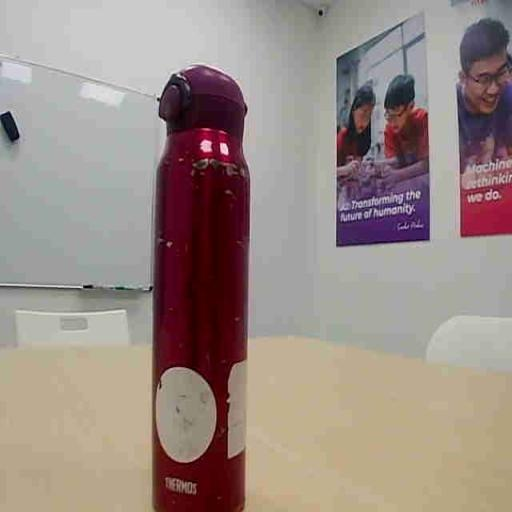bottle: (153, 67, 249, 511)
